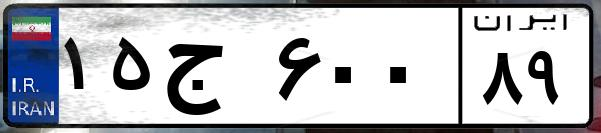0: (385, 28, 445, 110), (330, 28, 385, 110)
1: (57, 26, 110, 100)
5: (110, 28, 158, 98)
6: (270, 28, 330, 110)
8: (475, 38, 525, 113)
9: (525, 38, 570, 115)
ج: (158, 20, 270, 120)
